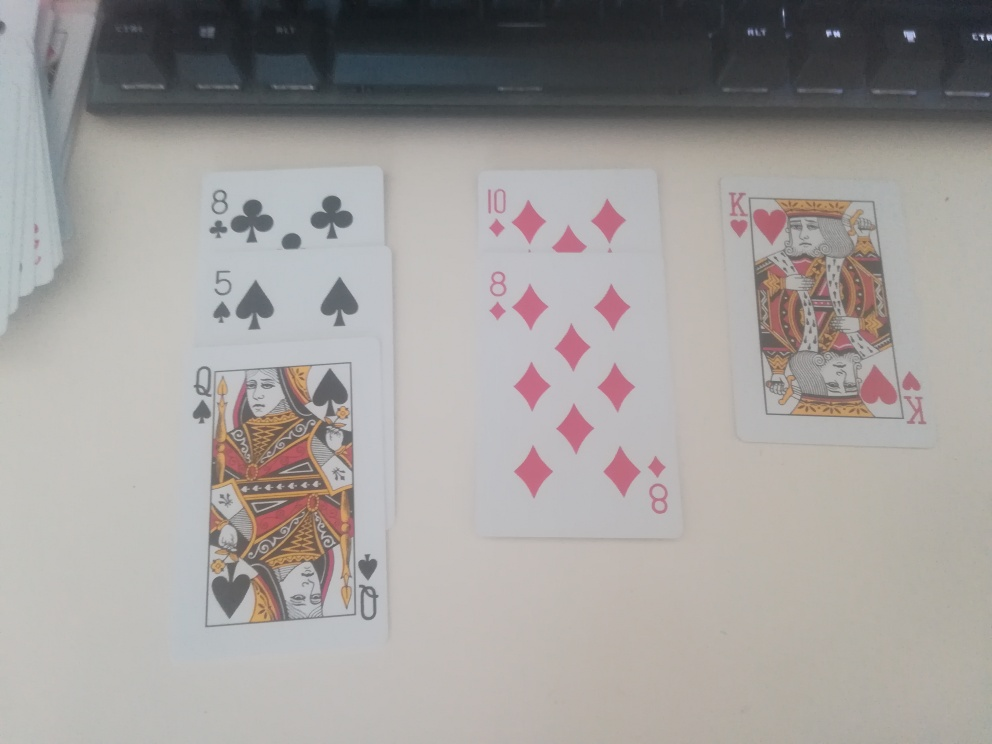10D: (484, 185, 511, 245)
5S: (210, 263, 237, 327)
8C: (204, 182, 236, 243)
8D: (485, 267, 515, 324)
KH: (724, 188, 757, 247)
QS: (187, 359, 216, 428)
